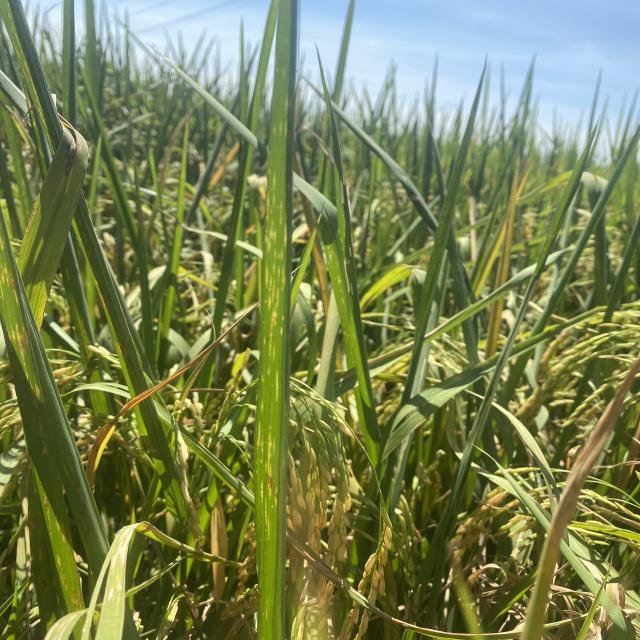Dom soc vi khuan: (268, 433, 272, 473), (275, 288, 279, 326), (269, 328, 272, 355), (276, 371, 278, 401), (271, 219, 274, 239), (266, 262, 268, 287), (280, 201, 282, 225), (285, 224, 287, 247), (273, 171, 275, 191), (275, 487, 277, 507), (281, 327, 283, 335), (283, 269, 284, 284), (269, 296, 270, 309)
